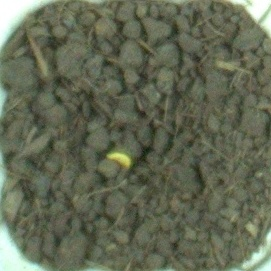chilli seed: (104, 146, 135, 172)
